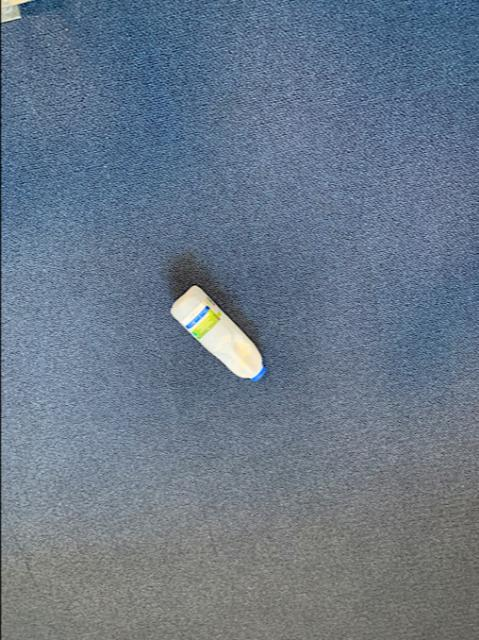plastic: (169, 288, 262, 382)
